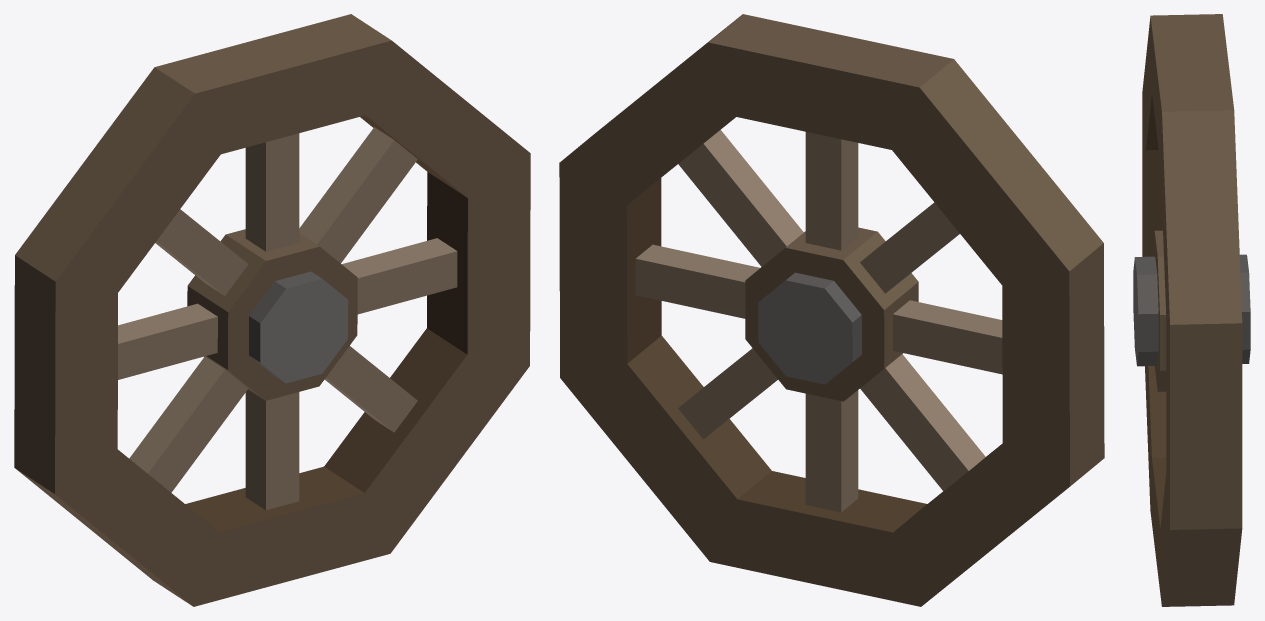
Rendered from SD_Prop_WagonWheel_01.fbx.
3 views of the same model, side by side, from view 1: azimuth 30°, elevation 25°; view 2: azimuth 150°, elevation 25°; view 3: azimuth 270°, elevation 25° (orthographic). The views are drawn at different scales.
Visible parts, largest first — view 1: SD_Prop_WagonWheel_01; view 2: SD_Prop_WagonWheel_01; view 3: SD_Prop_WagonWheel_01.
Part boxes in pixels (<box>): SD_Prop_WagonWheel_01: <box>14,14,530,606</box>; SD_Prop_WagonWheel_01: <box>559,14,1104,606</box>; SD_Prop_WagonWheel_01: <box>1133,14,1250,606</box>.
Size of the model in its own units: 2.14 by 2.13 by 0.4563.
